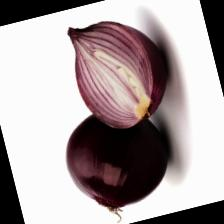onion: (54, 95, 180, 221), (61, 4, 178, 138)
